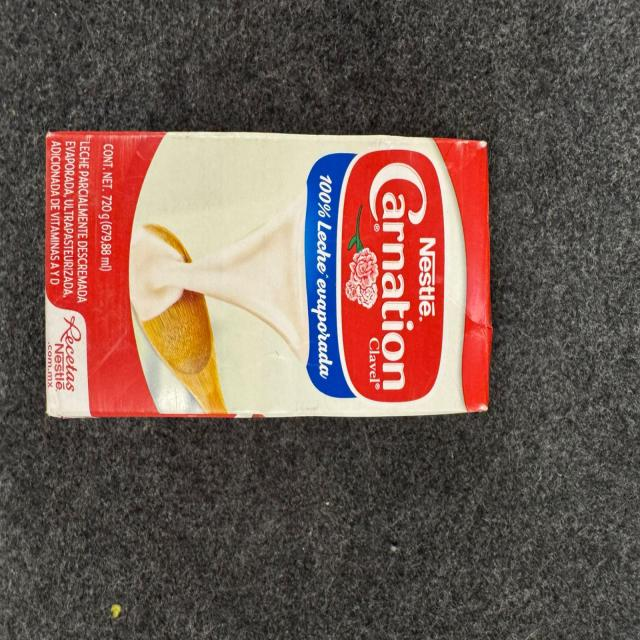CARNATION Leche Evaporada 720g: (46, 131, 487, 422)
